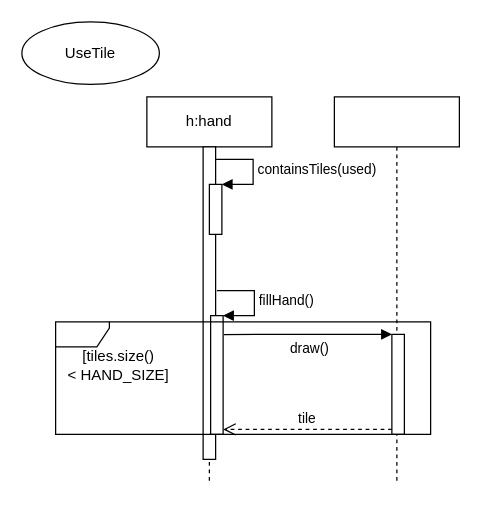
Image size: 481x506. Some labels were removed from this diagram. The shapes that lost their labels are listed below. From the top down, each one's box as (x1, y1, x2, y2) in pixels, then its label:
(333, 96, 459, 484): :DrawPile
(54, 321, 431, 434): loop
